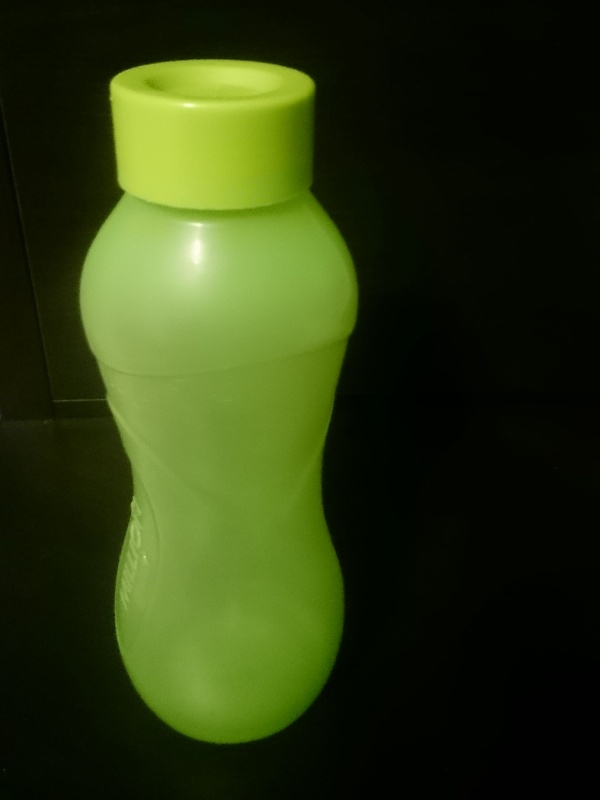my bottle: (77, 60, 362, 743)
